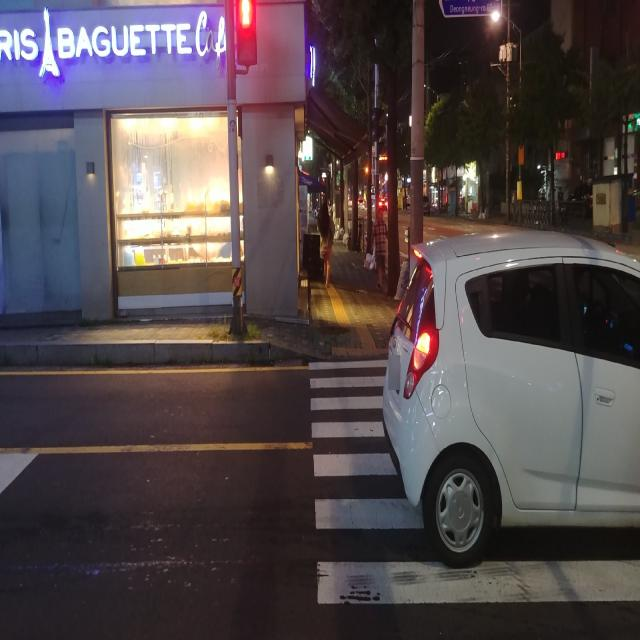빨간불: (236, 0, 262, 62)
횡단보도: (308, 358, 640, 610)
